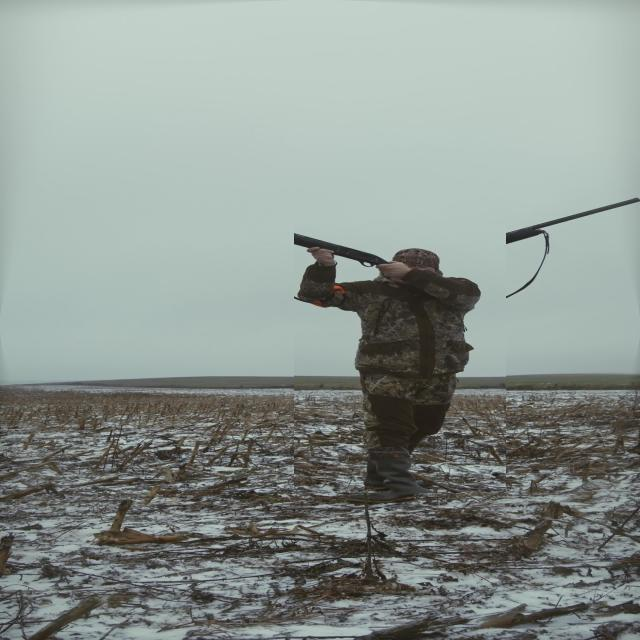poacher: (294, 224, 506, 493)
weapon: (412, 194, 640, 268)
